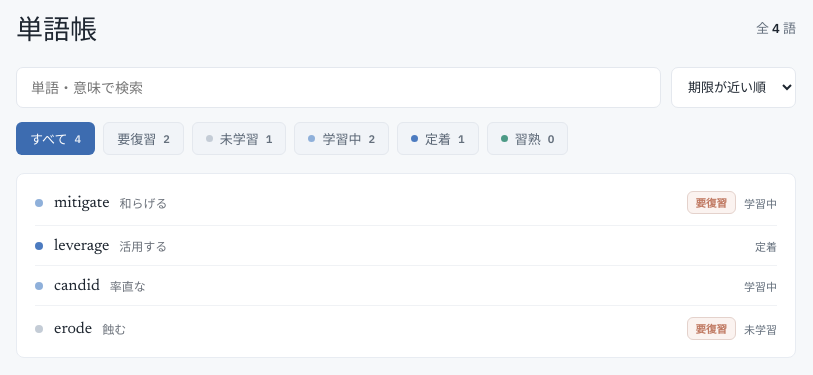
it: <WordbookScreen/> › filters the list by due review status
Click the button with test id "filter-due".
click(144, 138)  # box top-left (103, 122), bottom-right (184, 155)
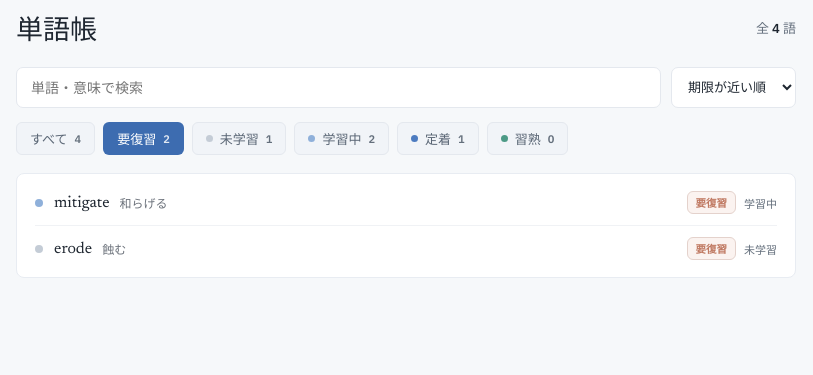
Expected: the button with test id "word-row-mitigate" is shown, top-left (35, 180), bottom-right (777, 225)
Expected: the button with test id "word-row-leverage" is gone
Expected: the button with test id "word-row-candid" is gone
